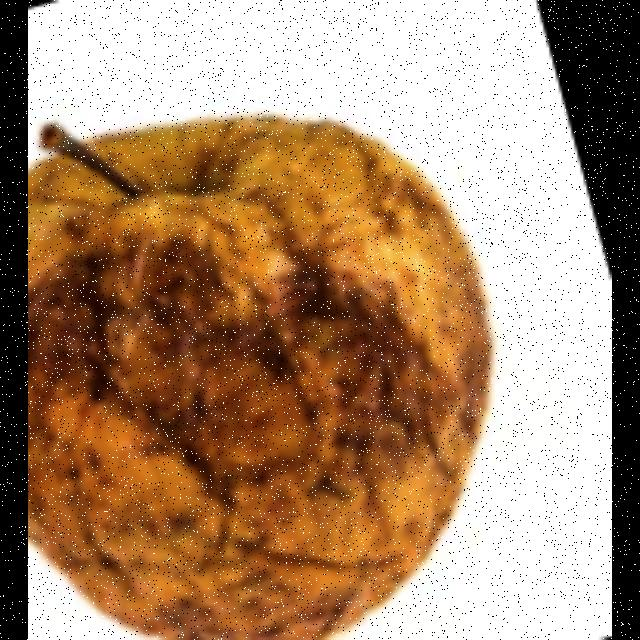Apel Tidak Segar: (29, 115, 488, 640)
